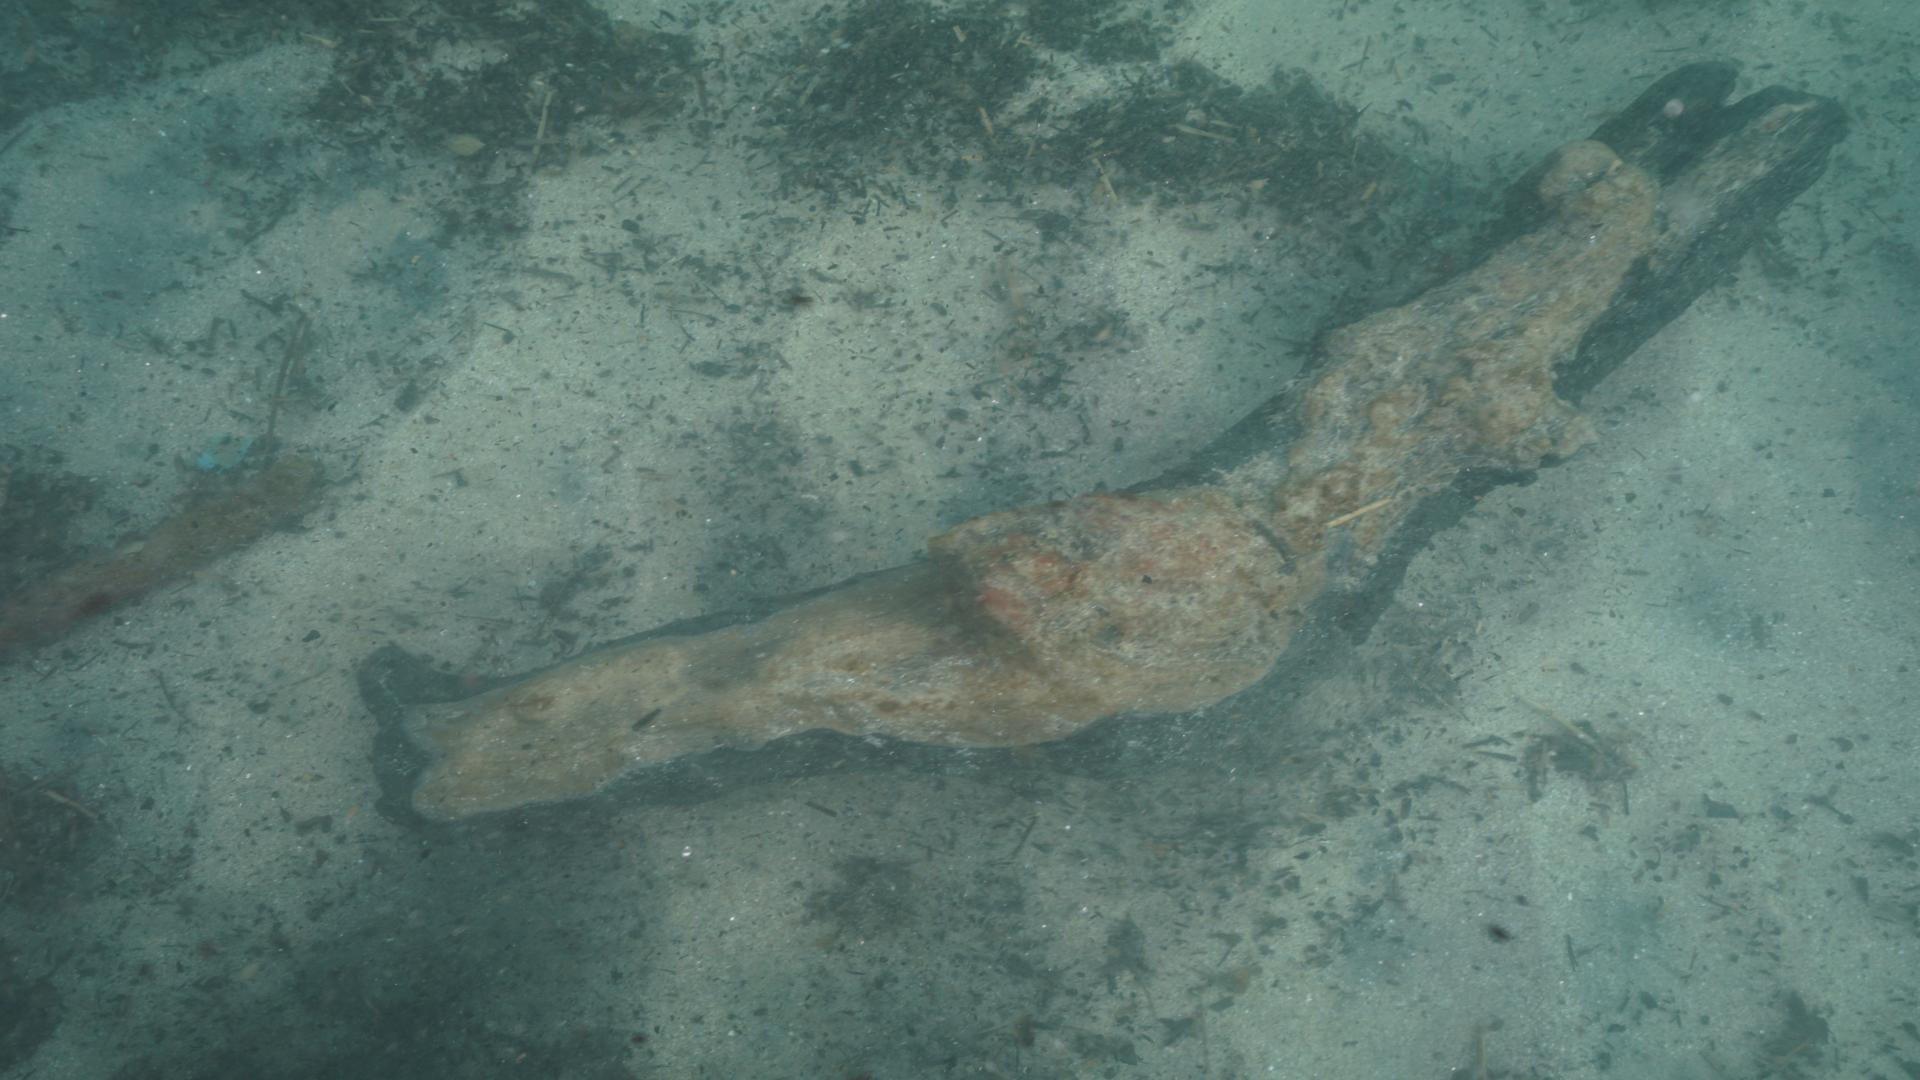wood: (353, 54, 1844, 841)
